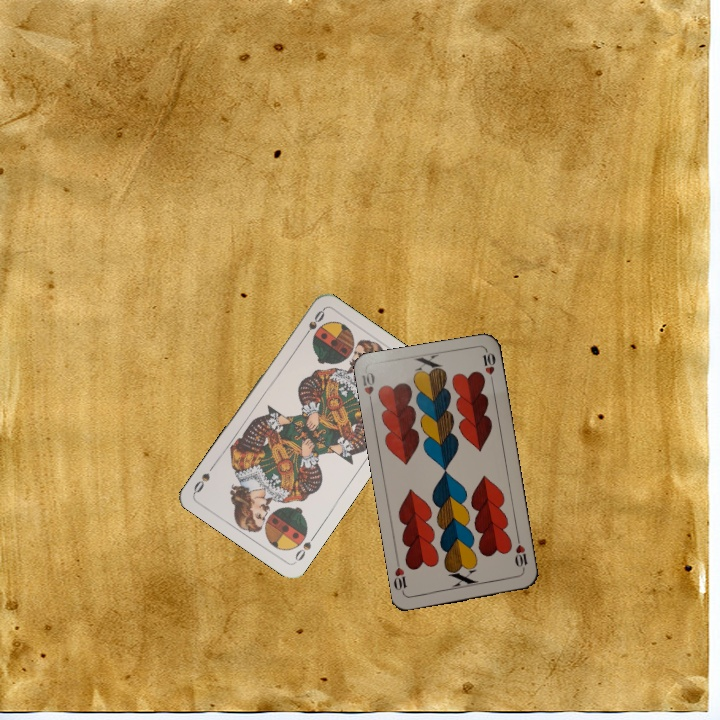H10: (511, 534, 530, 574), (358, 368, 377, 408)
SO: (299, 306, 327, 342), (291, 530, 319, 564)
